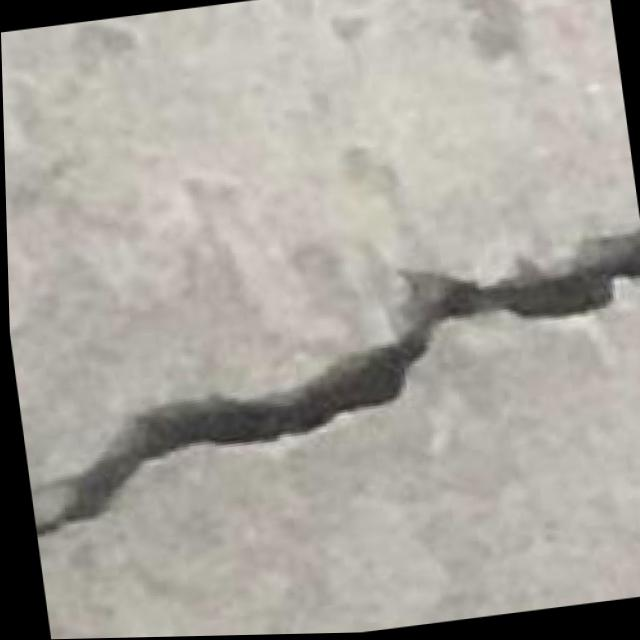Crack: (5, 194, 640, 539)
